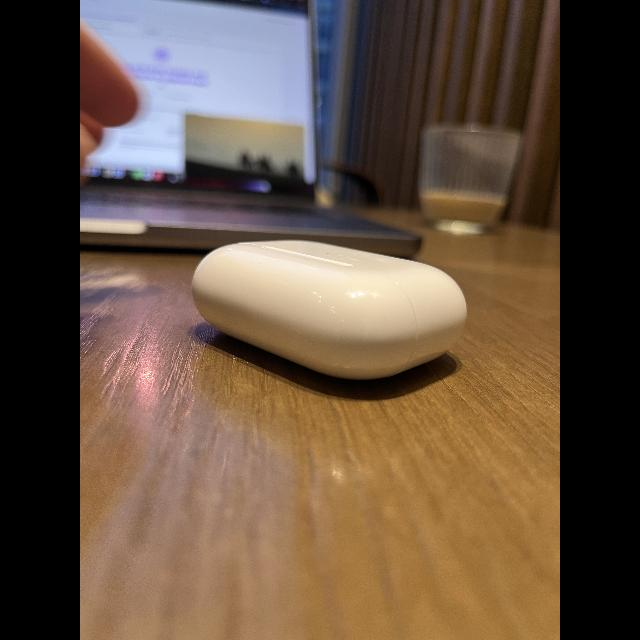AirPods Pro: (193, 232, 472, 400)
